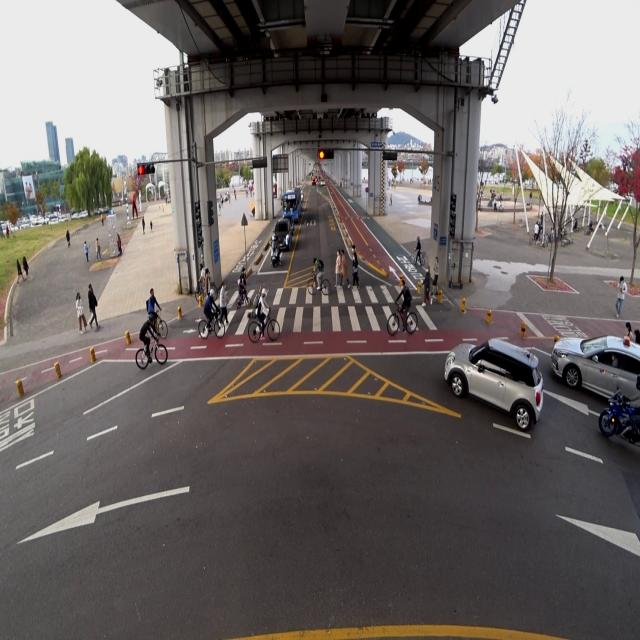Bus: (281, 184, 302, 228)
Car: (443, 322, 547, 442), (549, 318, 640, 406), (274, 211, 292, 250)
Motorcycle: (599, 366, 640, 460), (269, 233, 282, 269)
